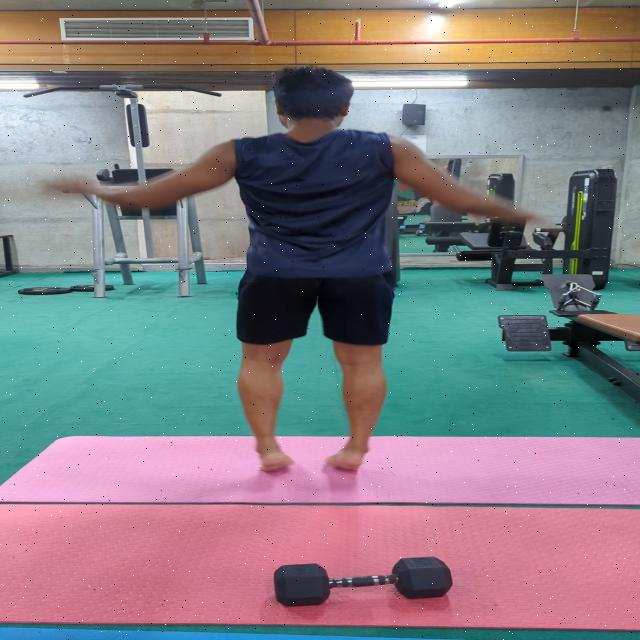Normal_JumpingJacks: (83, 74, 551, 484)
